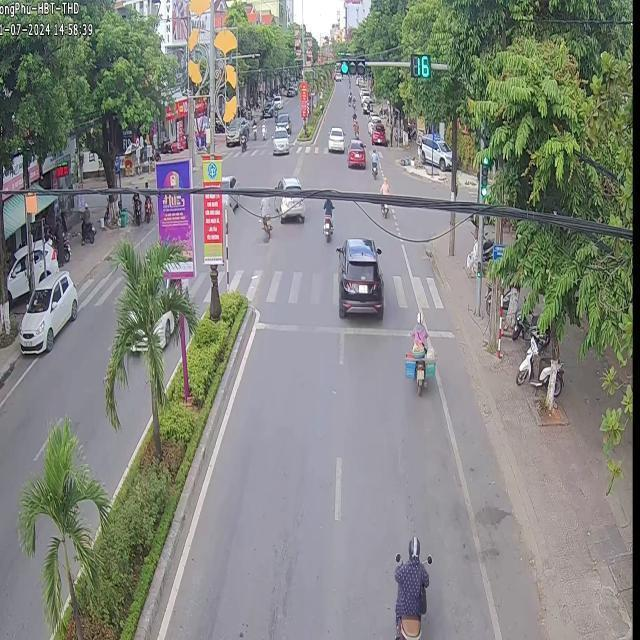car: (18, 269, 77, 350), (334, 236, 382, 318), (273, 194, 303, 220), (346, 138, 364, 166), (326, 125, 343, 150), (276, 174, 299, 187)
green_light: (411, 54, 431, 78), (479, 156, 488, 196), (341, 62, 366, 74)
motobike: (393, 536, 427, 638), (403, 309, 434, 394), (322, 196, 332, 240)
stop_line: (255, 320, 408, 336)
